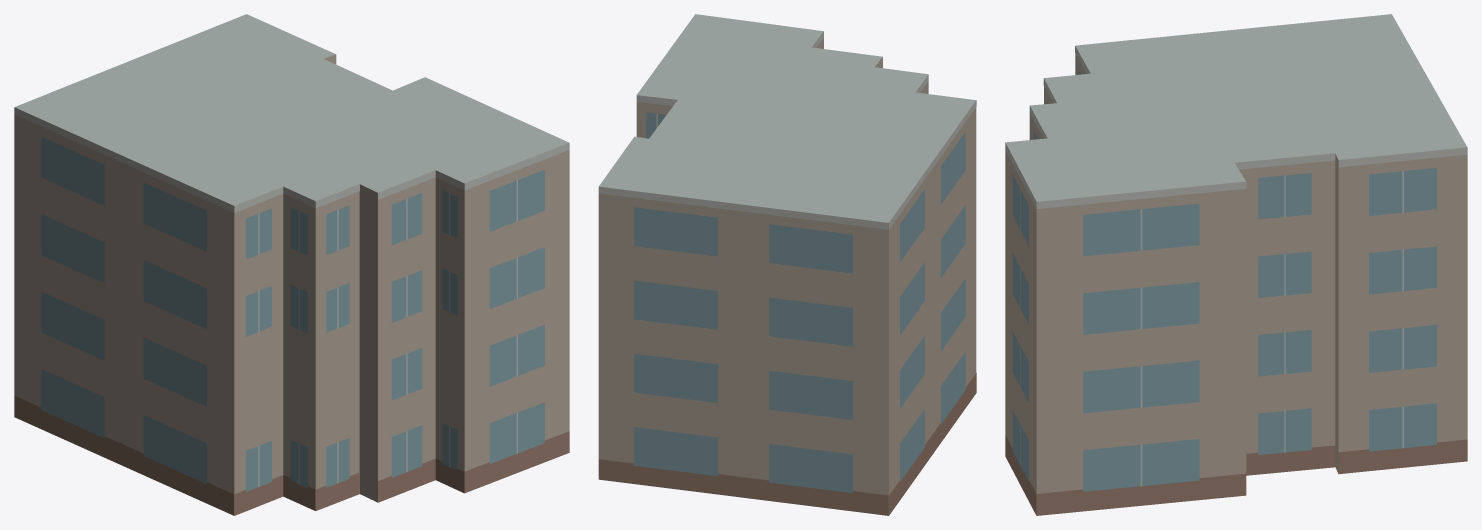
Rendered from survey-upis-32511095.glb.
3 views of the same model, side by side, from view 1: azimuth 30°, elevation 25°; view 2: azimuth 150°, elevation 25°; view 3: azimuth 270°, elevation 25° (orthographic). The views are drawn at different scales.
Parts seen in each view (by area): view 1: survey-upis-32511095.tmp; view 2: survey-upis-32511095.tmp; view 3: survey-upis-32511095.tmp.
Part boxes in pixels (bbox=[...]): survey-upis-32511095.tmp: bbox=[14, 14, 569, 515]; survey-upis-32511095.tmp: bbox=[598, 14, 976, 515]; survey-upis-32511095.tmp: bbox=[1005, 14, 1467, 515].
Size of the model in its own units: 13.61 by 10.6 by 14.15.
